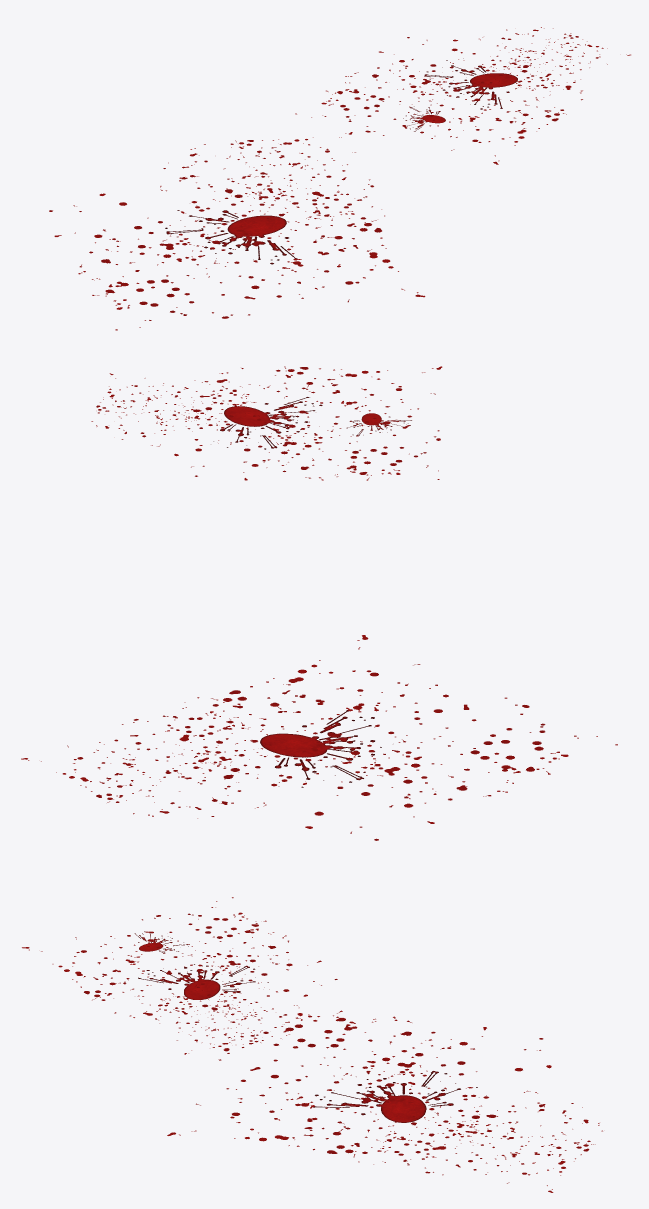
The model's file is tb_blood2.glb.
The picture shows the model from 3 angles, top to bottom: view 1: azimuth 30°, elevation 25°; view 2: azimuth 150°, elevation 25°; view 3: azimuth 270°, elevation 25°; orthographic projection. The views are drawn at different scales.
Parts seen in each view (by area): view 1: blood2; view 2: blood2; view 3: blood2.
Boxes of the visible parts, x1,y1,x2,y2 form: blood2: [49, 27, 630, 330]; blood2: [21, 366, 617, 840]; blood2: [22, 897, 602, 1192].
Size of the model in its own units: 3.18 by 1.12 by 3.33.
Materials: 2 (2 with a texture image).
